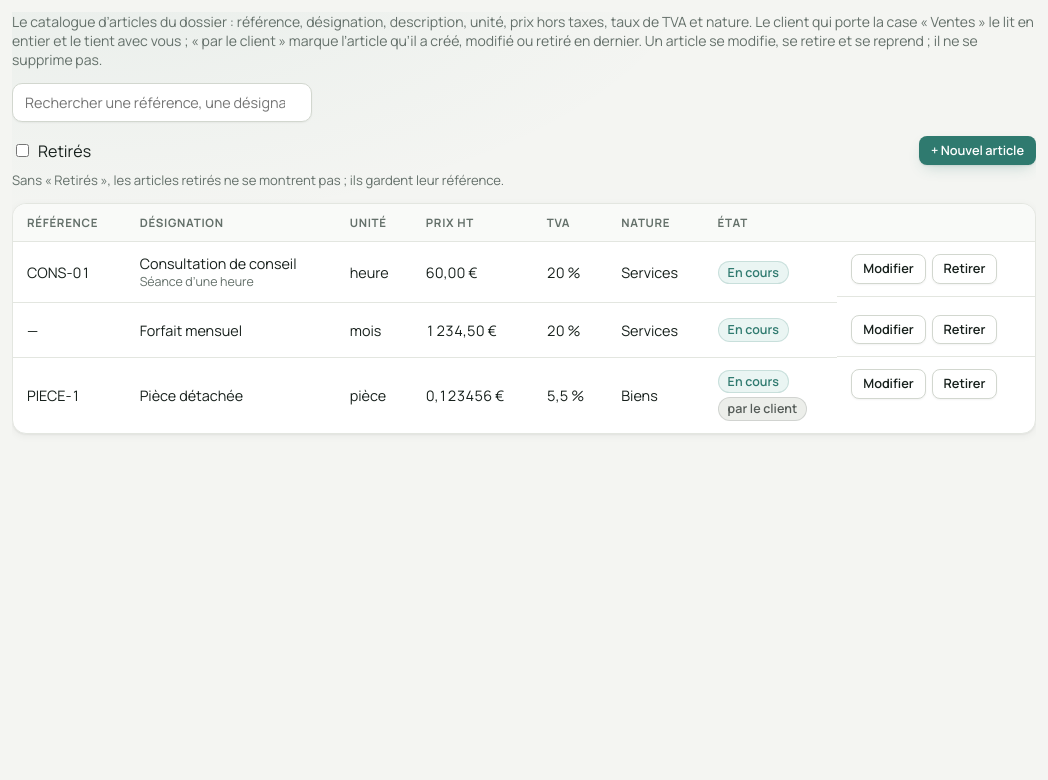
Test: Articles — la liste › le « N sur M » compte les retirés quand le filtre les montre
Expected: the table named "Articles" is shown, [13,204,1035,433]
Click the checkbox labelled "Retirés": (22, 151) [16,144,29,157]
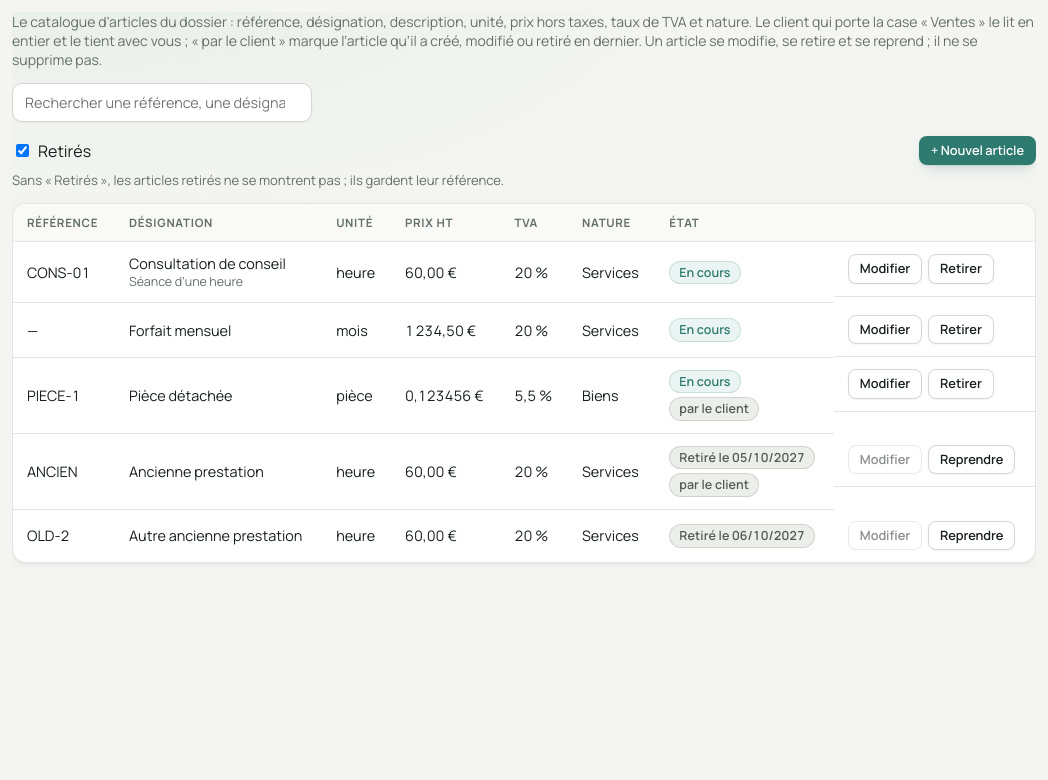
In the search field with placeholder "Rechercher une référence, une désignation…": (162, 102) [12,83,312,122], type "prestation"
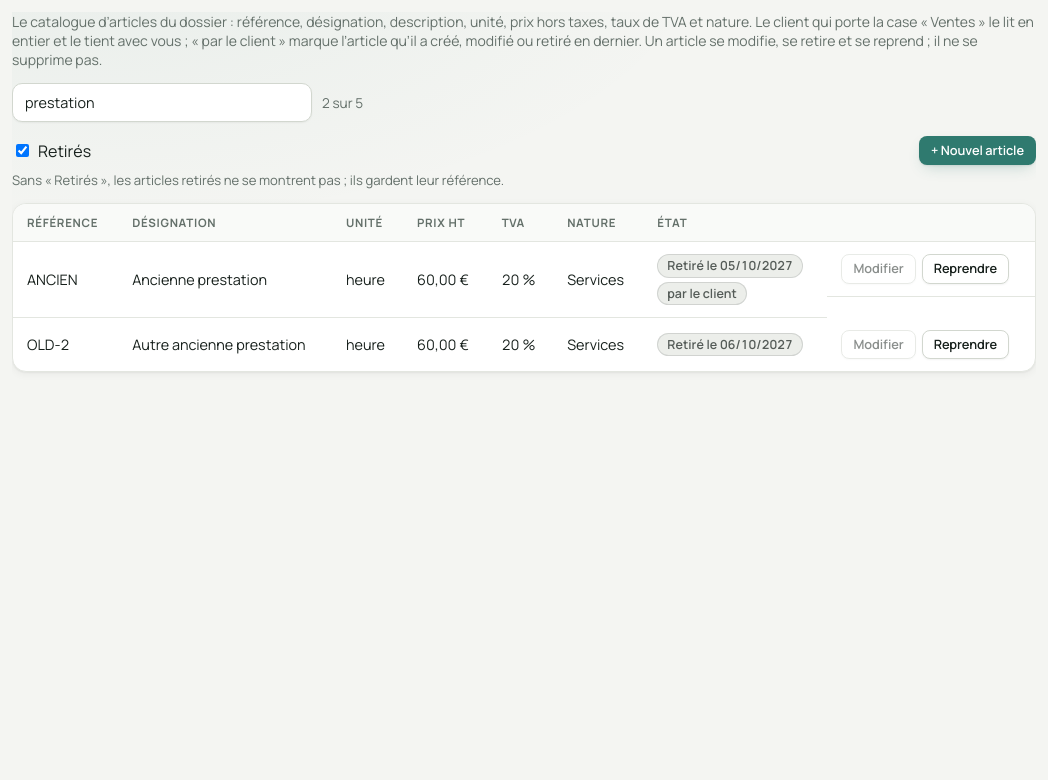
Now the text "2 sur 5" is shown, box [322,94,363,112]
